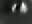person: (21, 2, 29, 16), (12, 3, 18, 15)
